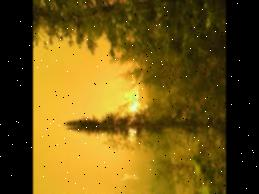fire: (118, 75, 160, 148)
